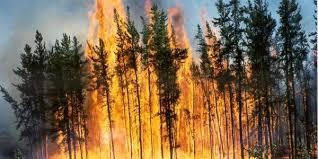fire: (73, 0, 284, 159)
